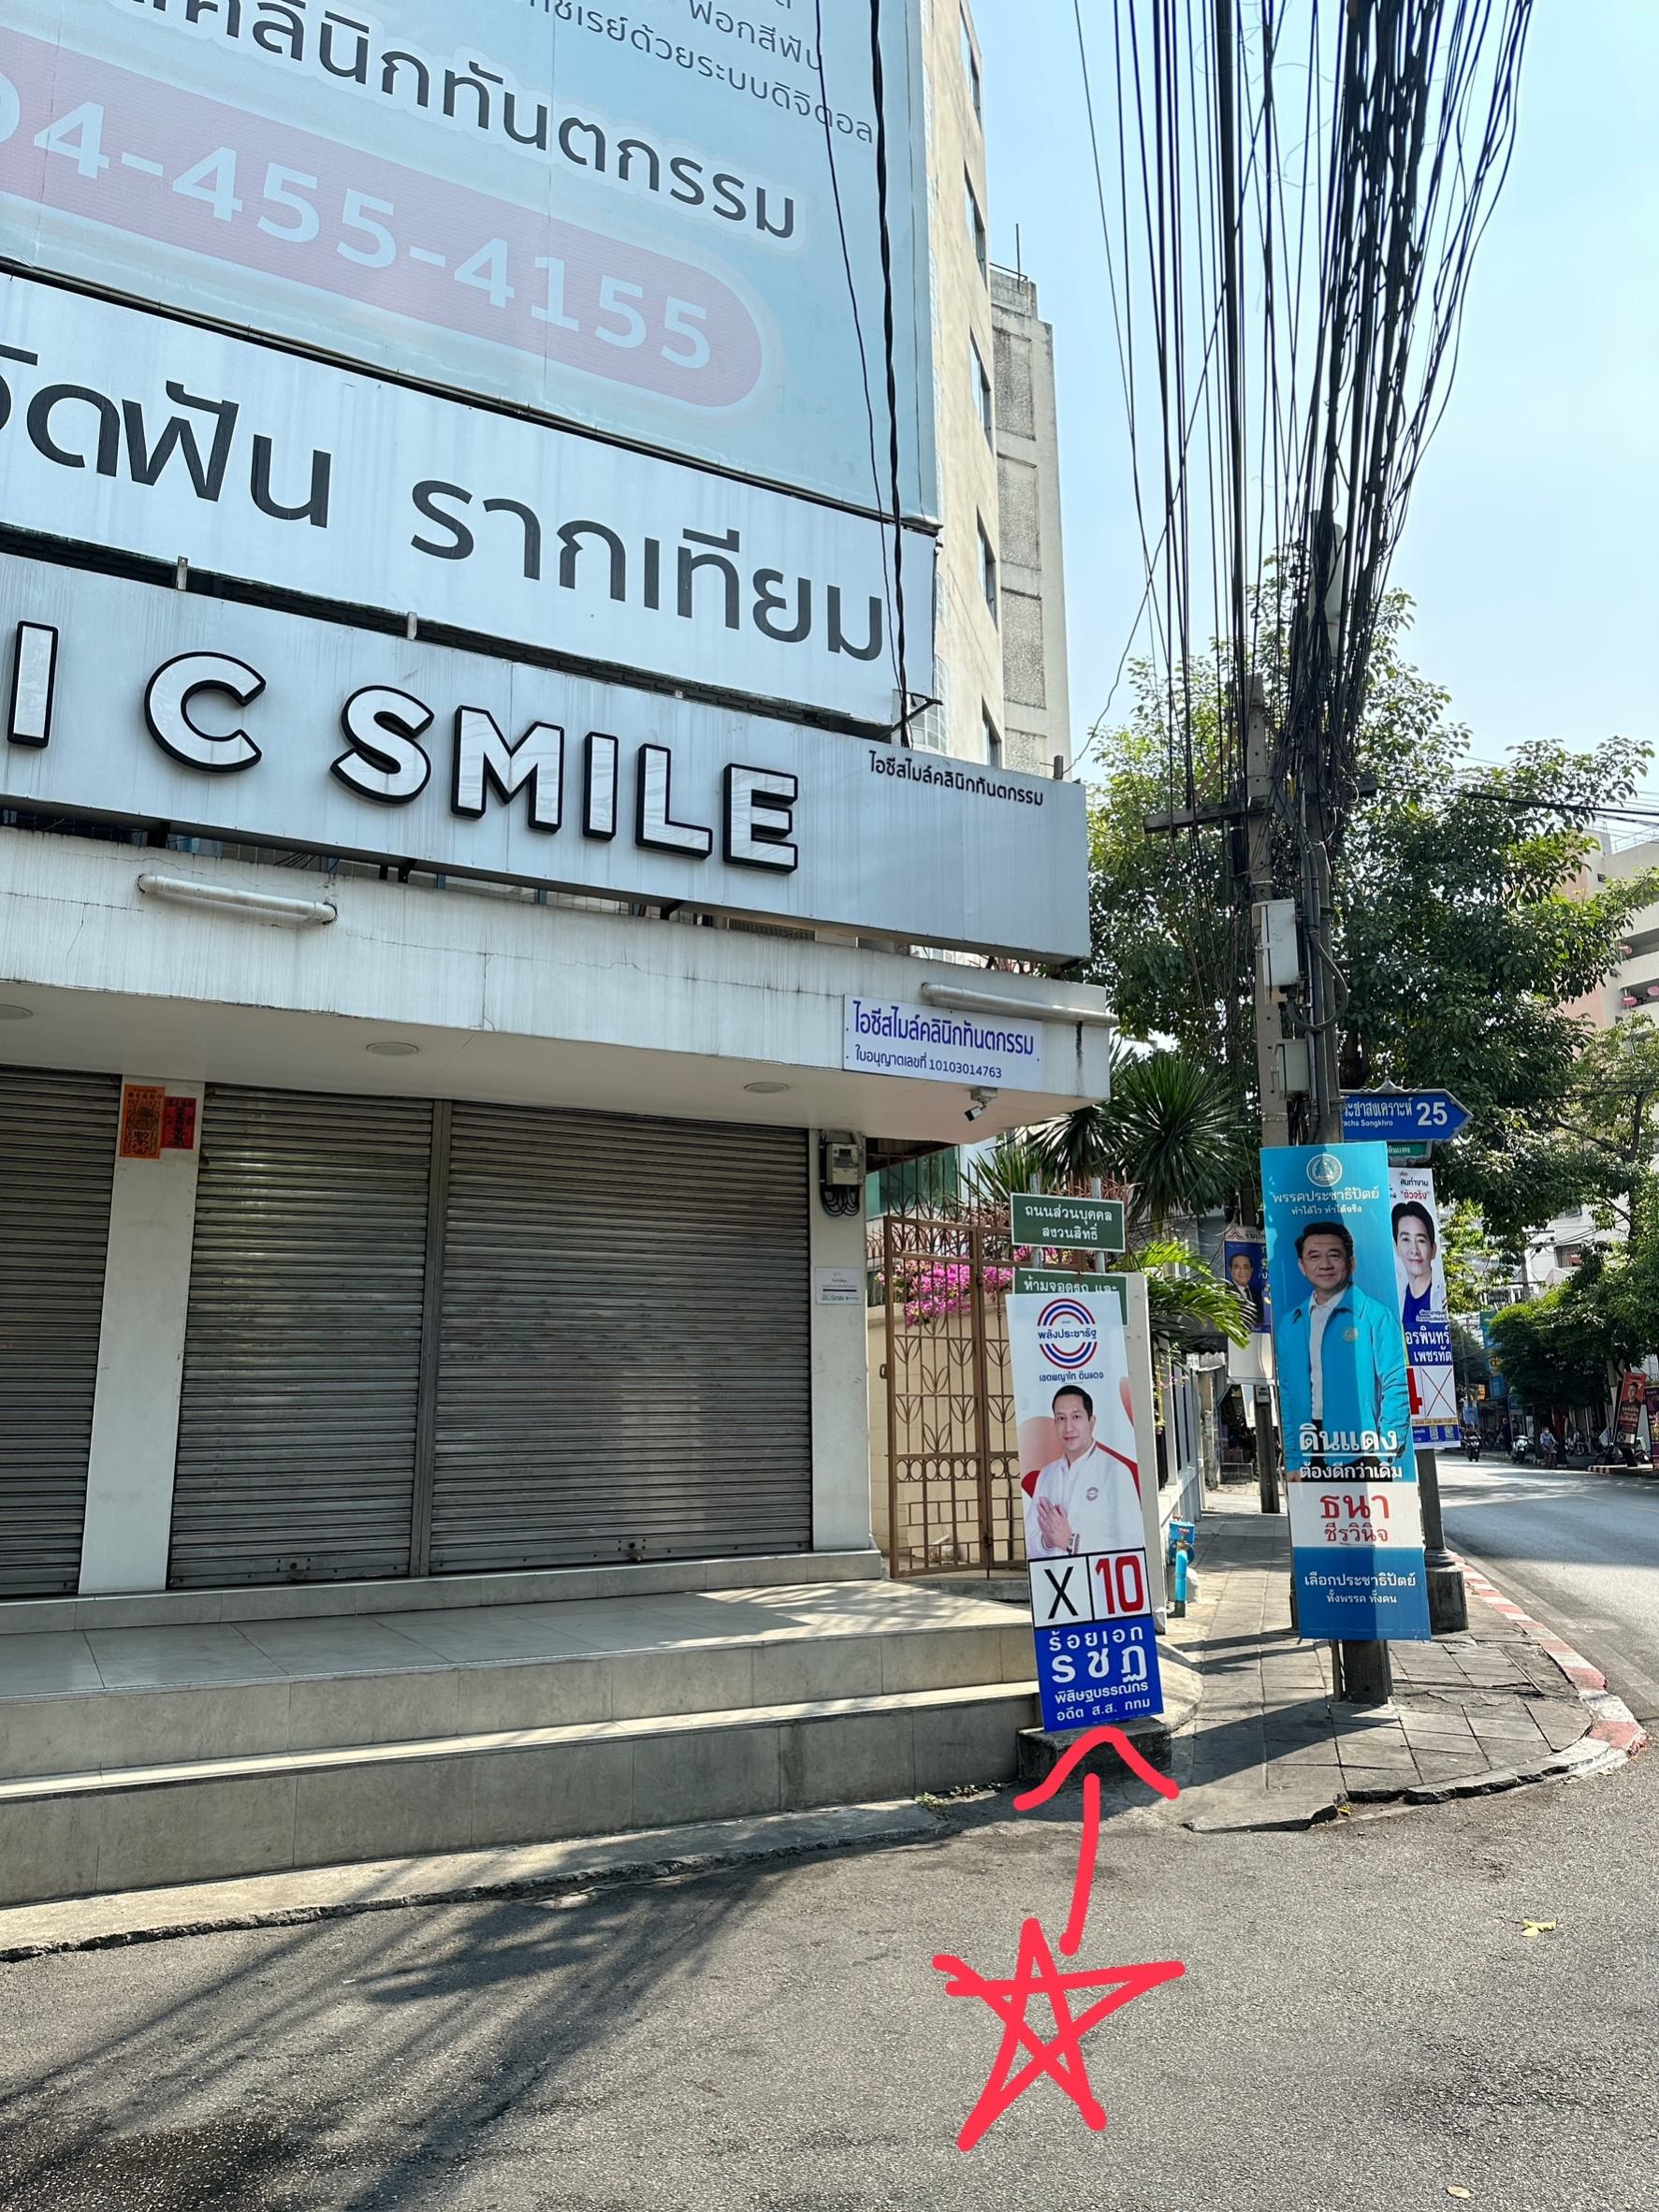Banner: (1251, 1146, 1412, 1641), (1002, 1280, 1173, 1742)
